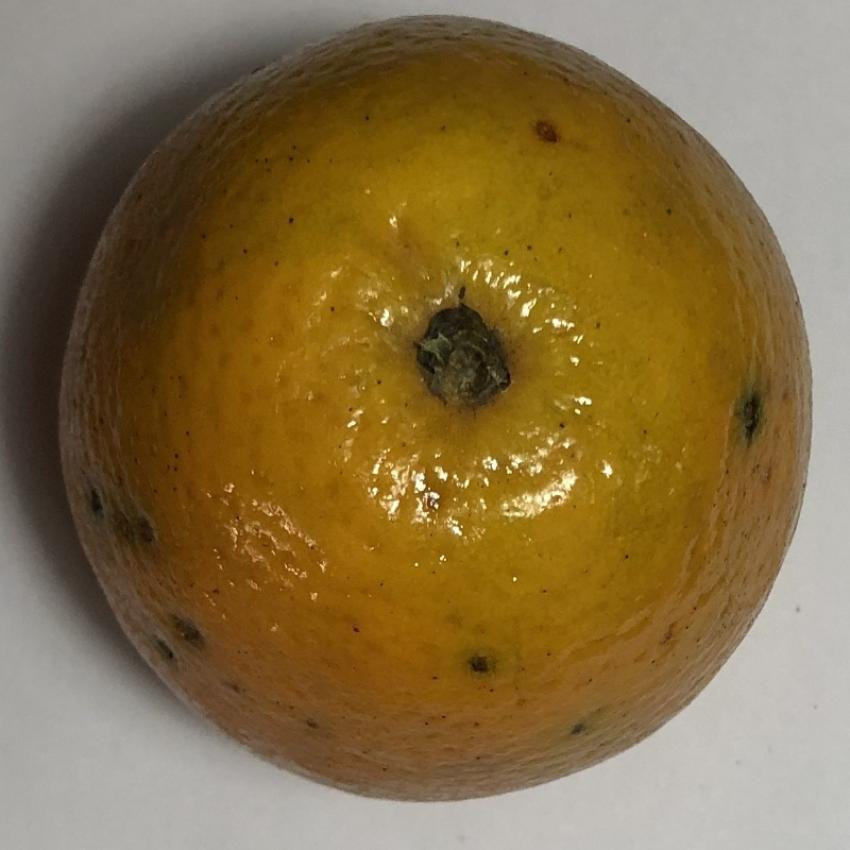Mal estado: (47, 10, 823, 820)
